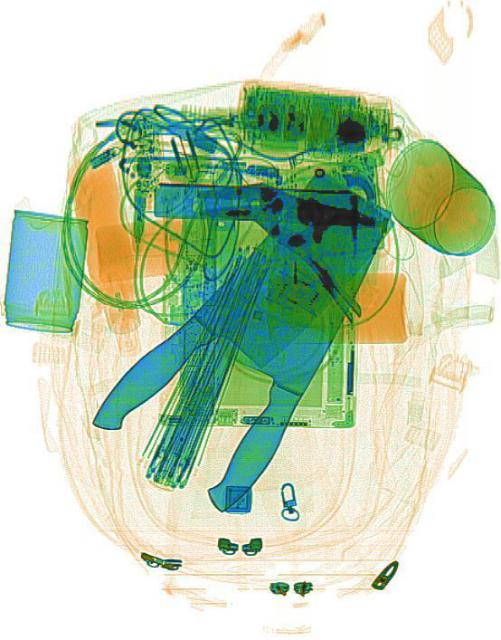Knife: (83, 144, 402, 492), (155, 157, 396, 525)
